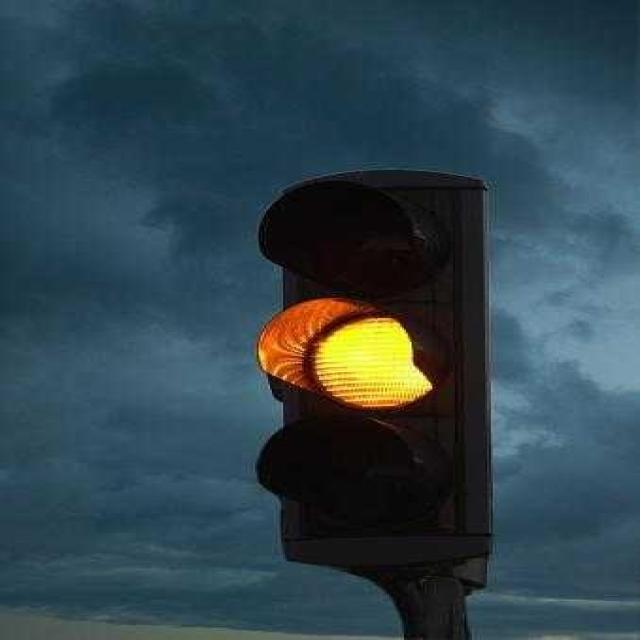Traffic Light -Yellow-: (232, 121, 491, 620)
